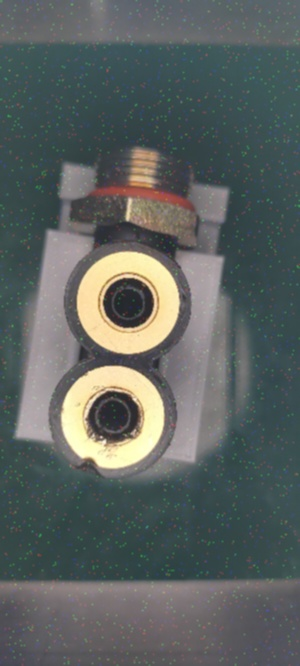bump: (68, 453, 115, 484)
craze: (132, 225, 146, 243)
